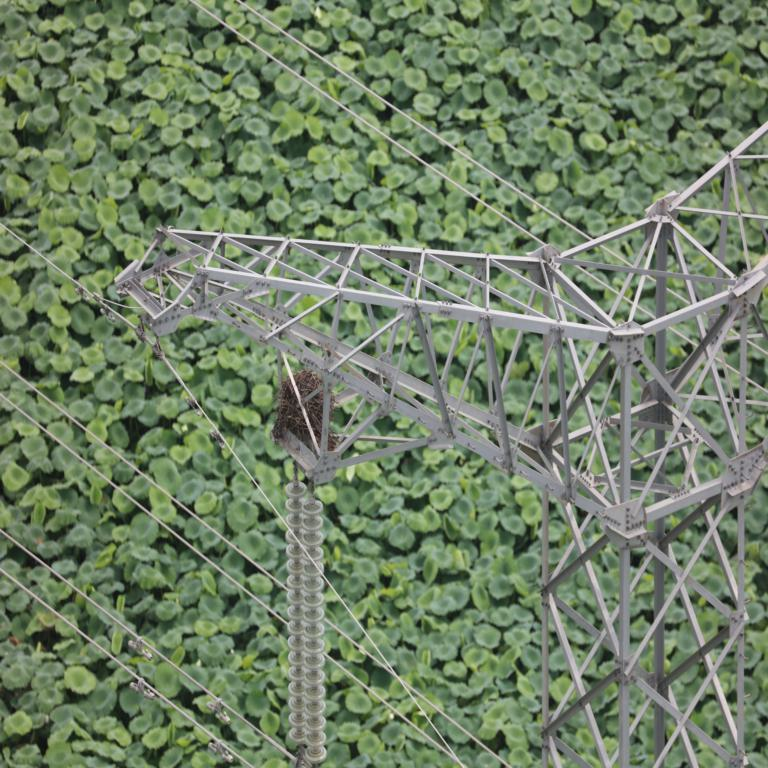nest: (277, 373, 337, 442)
